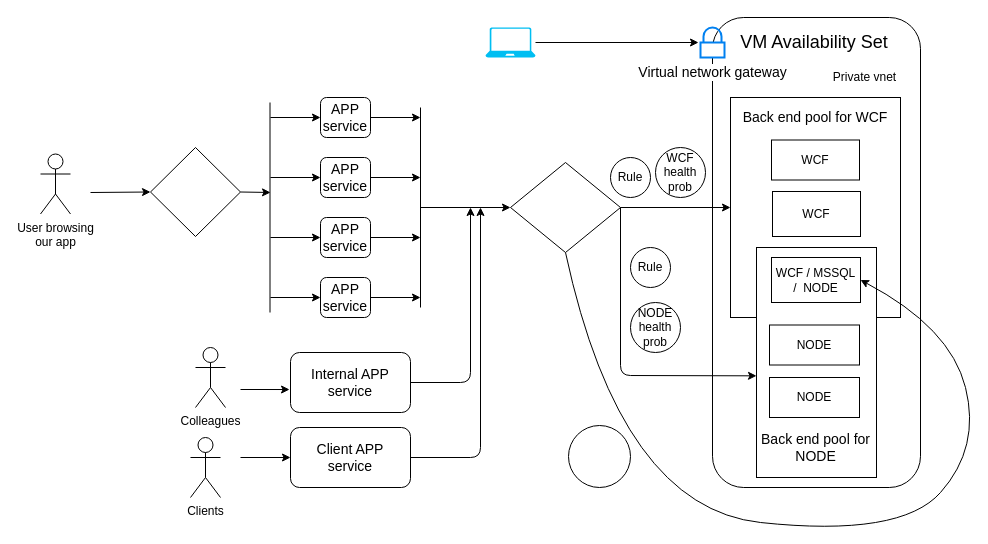
The diagram is 988 pixels wide and 544 high, and some of its shapes have lost their labels. Each missing label, with the box of its shape:
Application Gateway: (150, 146, 240, 236)
Azure public Load Balancer: (510, 162, 620, 252)
Developers: (485, 27, 535, 57)
NAT inbound rule: (568, 424, 630, 488)
